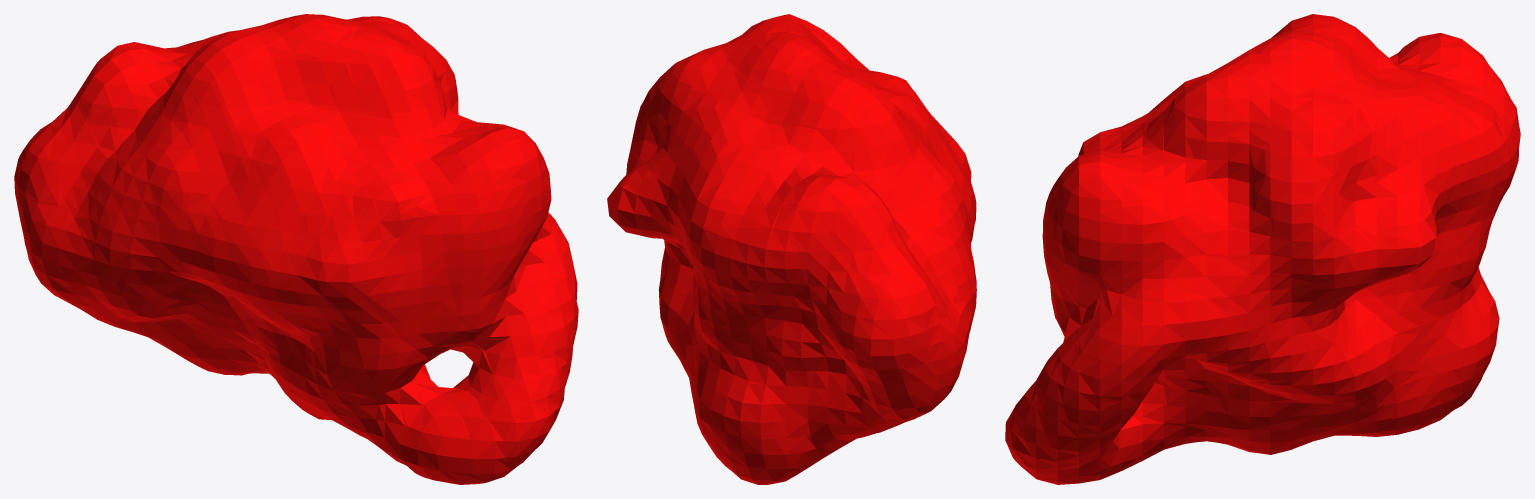
File: ypfJ_coarse.dae
The picture shows the model from 3 angles, left to right: view 1: azimuth 30°, elevation 25°; view 2: azimuth 150°, elevation 25°; view 3: azimuth 270°, elevation 25°; orthographic projection. The views are drawn at different scales.
Visible parts, largest first — view 1: ypfJ; view 2: ypfJ; view 3: ypfJ.
Part boxes in pixels (x1,y1,x2,y2): ypfJ: [14, 14, 578, 484]; ypfJ: [607, 14, 976, 484]; ypfJ: [1005, 14, 1520, 484].
Size of the model in its own units: 52.65 by 50.06 by 55.69.
